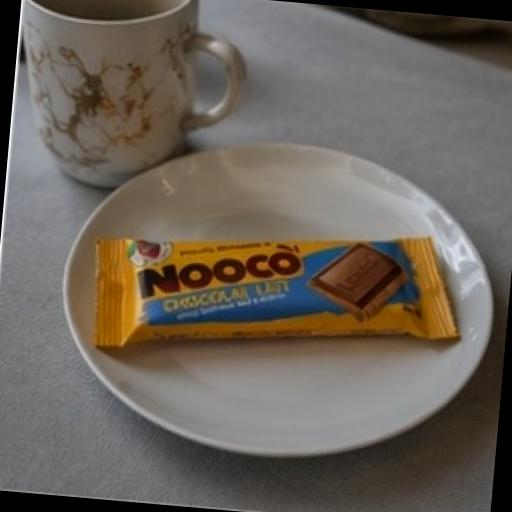biscuit-detection: (78, 194, 482, 390)
